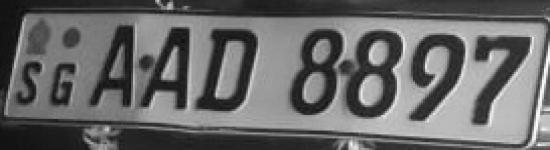7: (471, 31, 536, 131)
8: (345, 25, 409, 122), (288, 24, 347, 121)
9: (405, 30, 470, 130)
A: (137, 20, 193, 113), (88, 22, 140, 114)
D: (195, 25, 258, 117)
G: (50, 60, 82, 109)
S: (13, 58, 47, 108)
